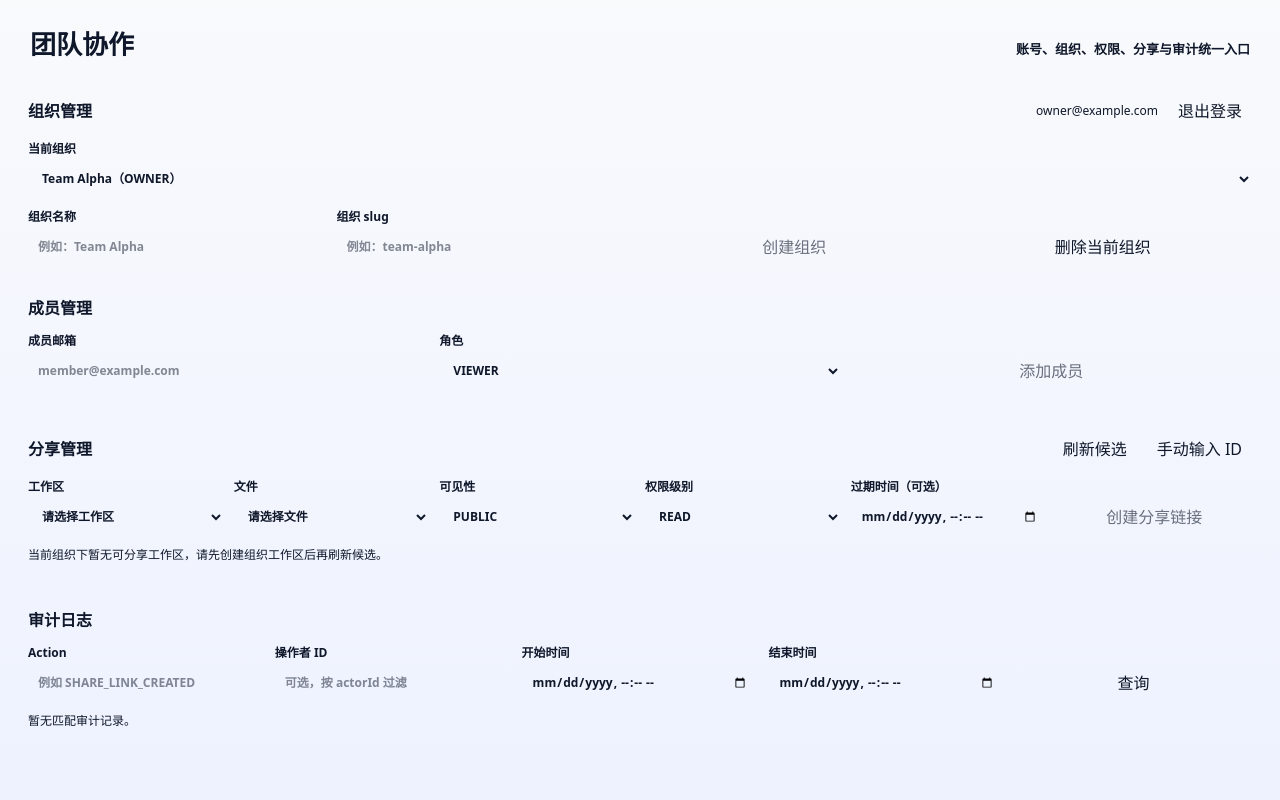
TeamPage › supports audit combo filters with keyboard + blur and shows empty state
Type "  SHARE_LINK_CREATED  " into the field with test id "team-audit-action" at (146, 682), box x1=28 y1=666 x2=265 y2=700
Type " u1 " into the field with test id "team-audit-actor" at (393, 682), box x1=275 y1=666 x2=512 y2=700
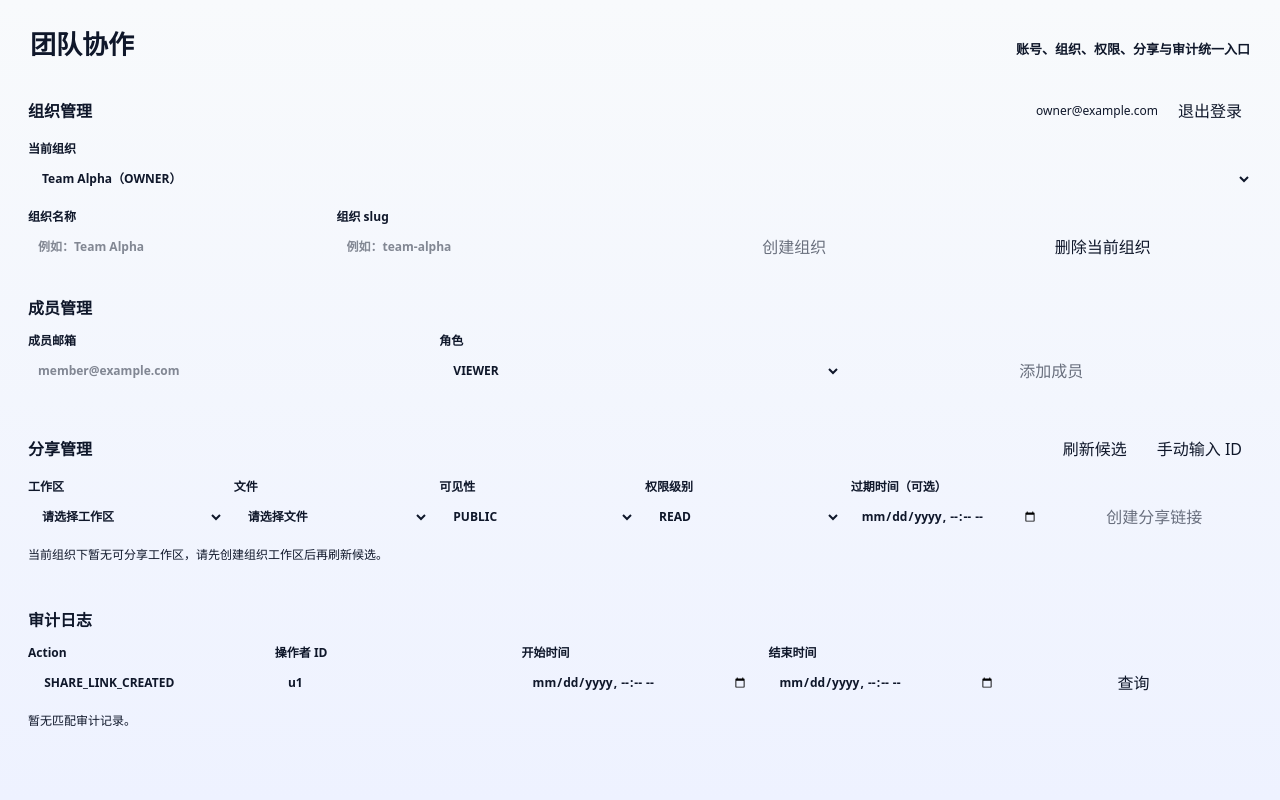
Type "2026-03-18T08:15" into the field with test id "team-audit-from" at (640, 682), box x1=522 y1=666 x2=758 y2=700
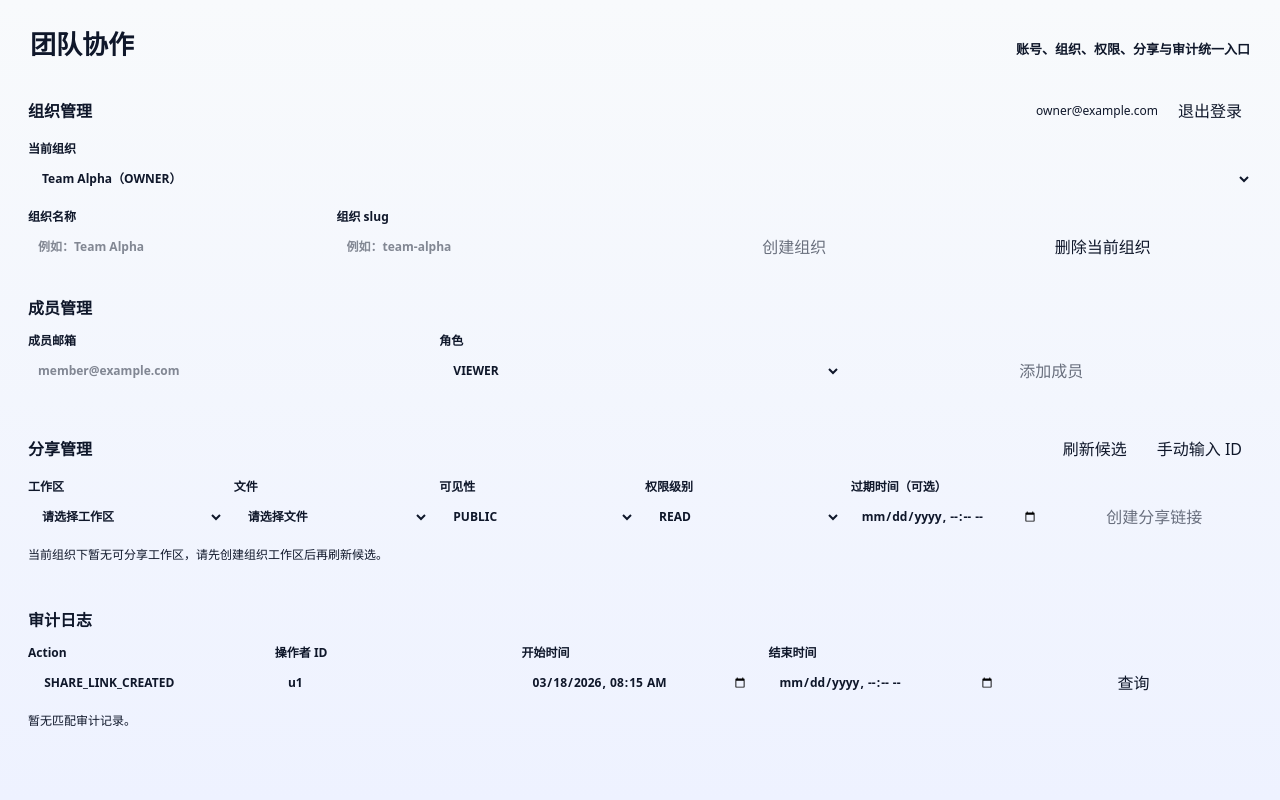
Type "2026-03-18T10:45" into the field with test id "team-audit-to" at (887, 682), box x1=768 y1=666 x2=1005 y2=700
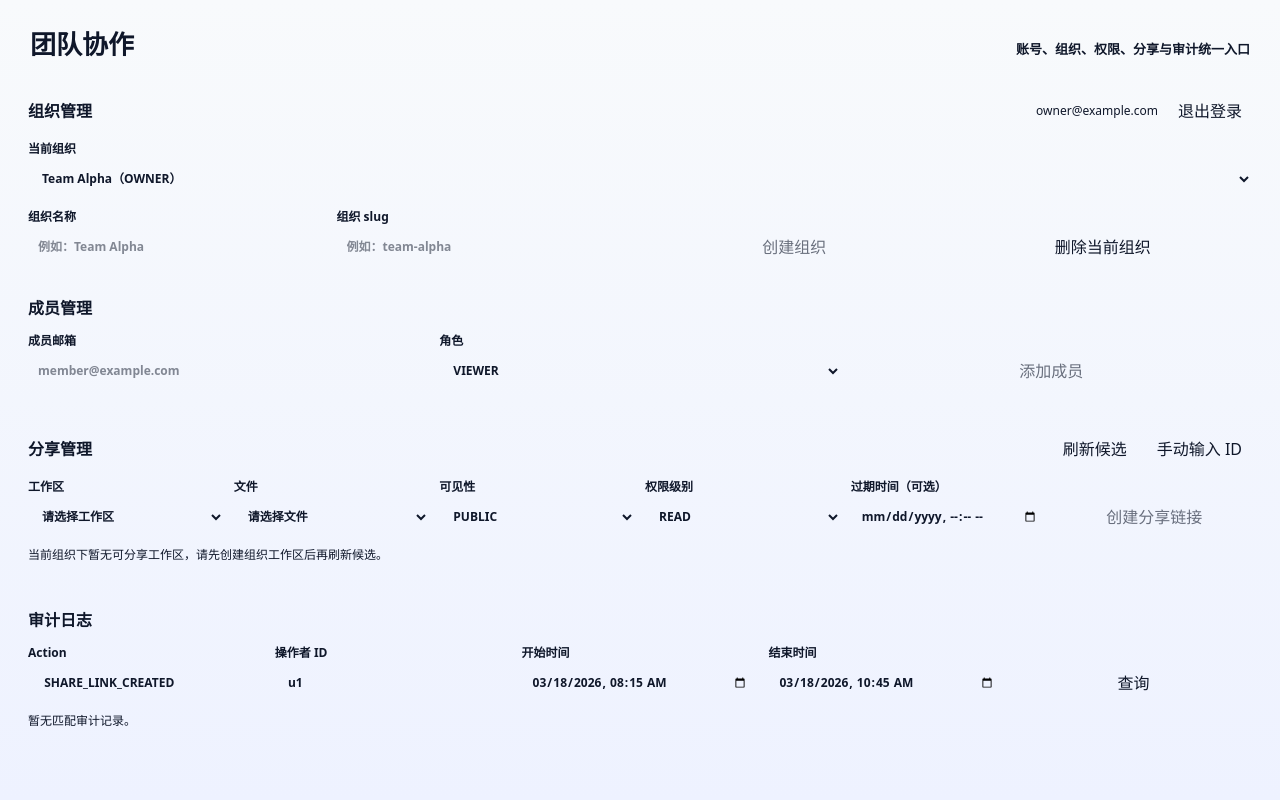
Press Enter in the field with test id "team-audit-to", box x1=768 y1=666 x2=1005 y2=700
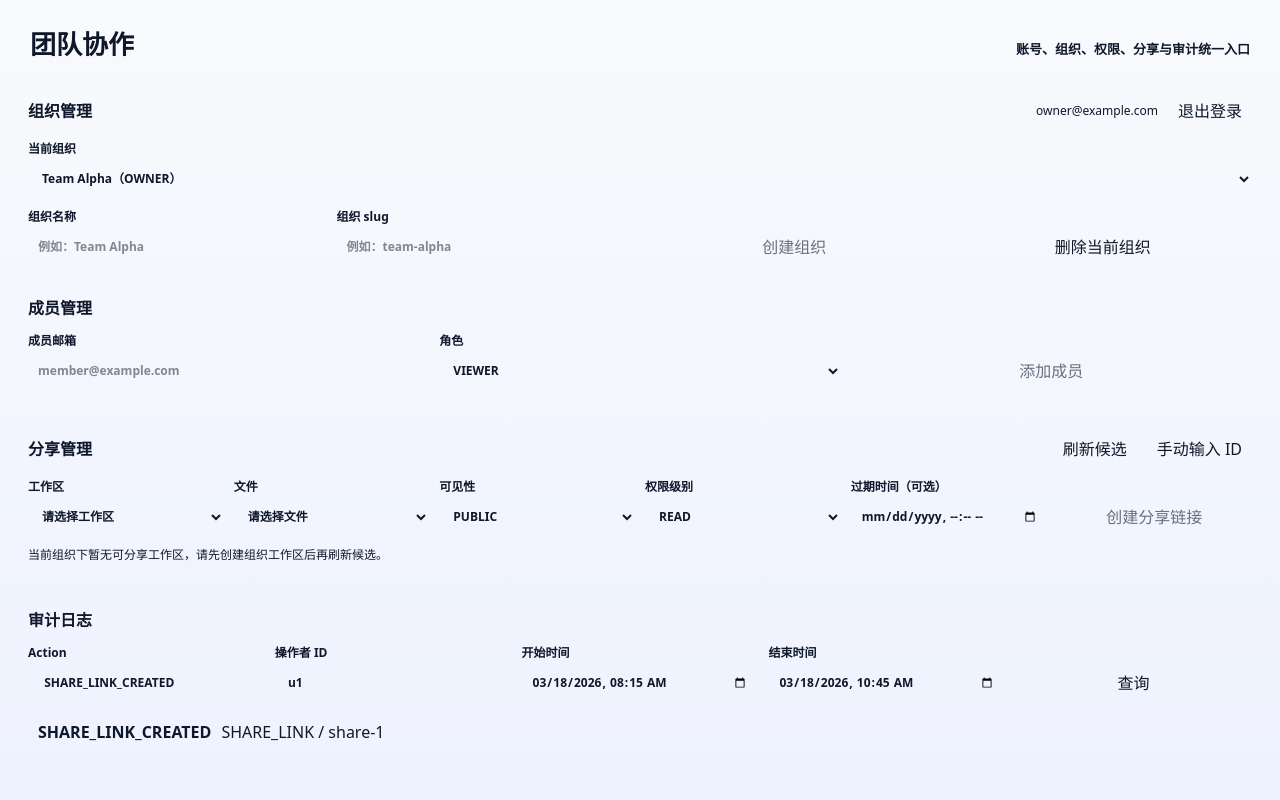
Now the number of list items with test id "team-audit-item" is 1, box x1=38 y1=720 x2=384 y2=742
Replace the text in the field with test id "team-audit-actor" with "u-not-found" at (393, 682), box x1=275 y1=666 x2=512 y2=700
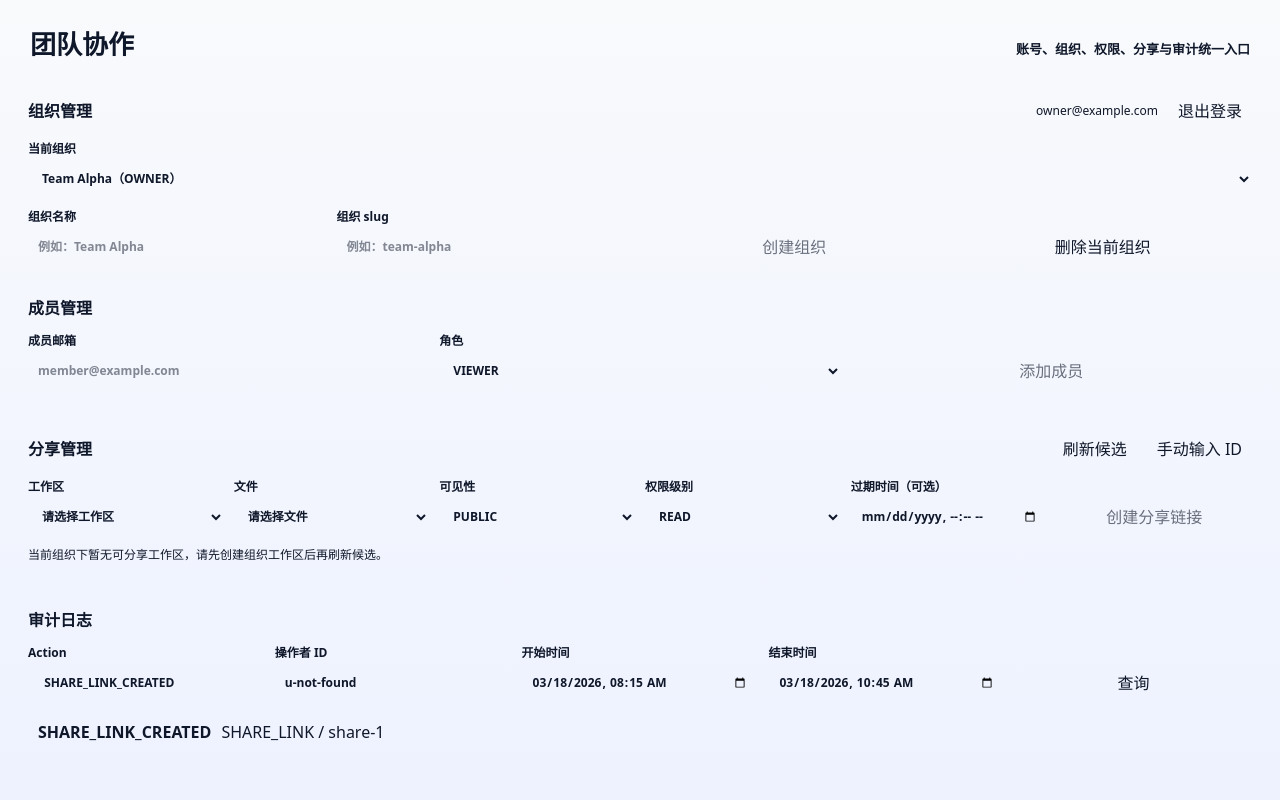
Click the button with test id "team-audit-query" at (1134, 682), box x1=1015 y1=666 x2=1252 y2=700
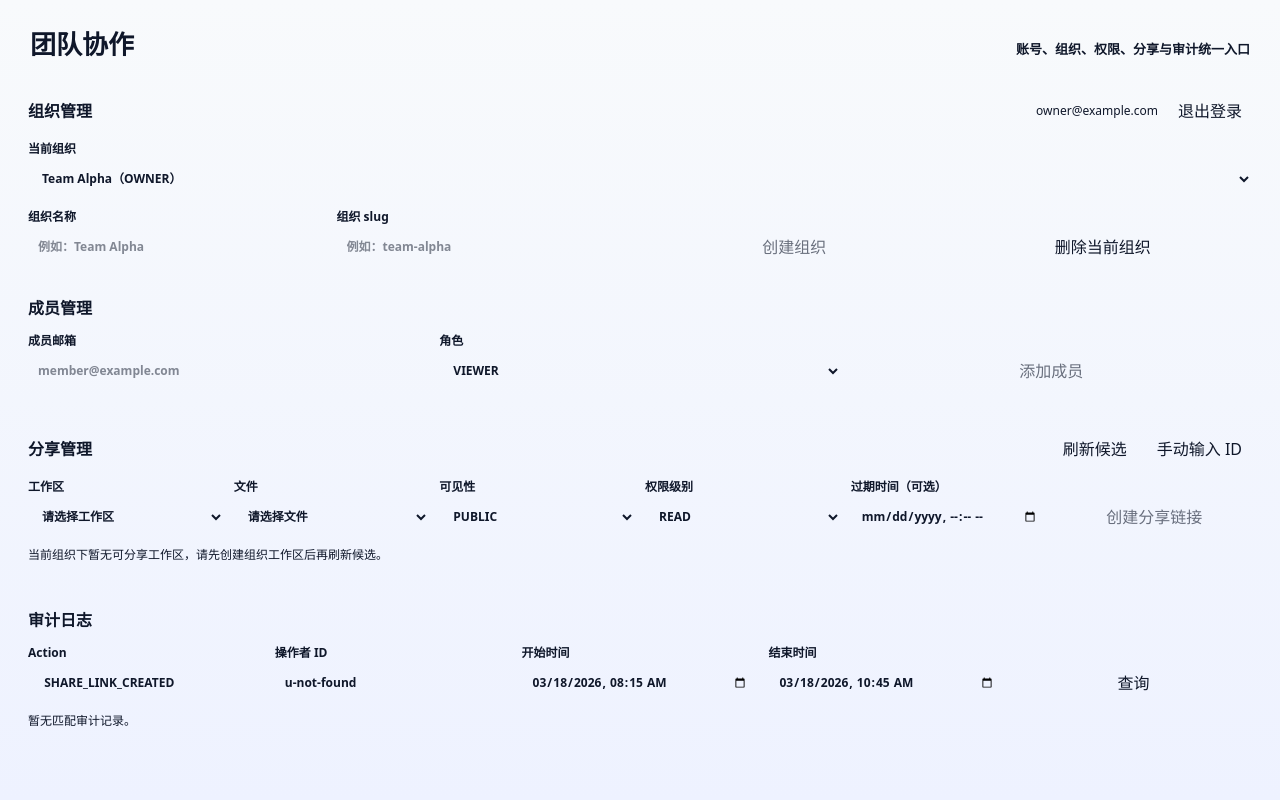
Now no list items with test id "team-audit-item" are shown
Now the text with test id "team-audit-empty" shows "暂无匹配", box x1=28 y1=712 x2=136 y2=728
